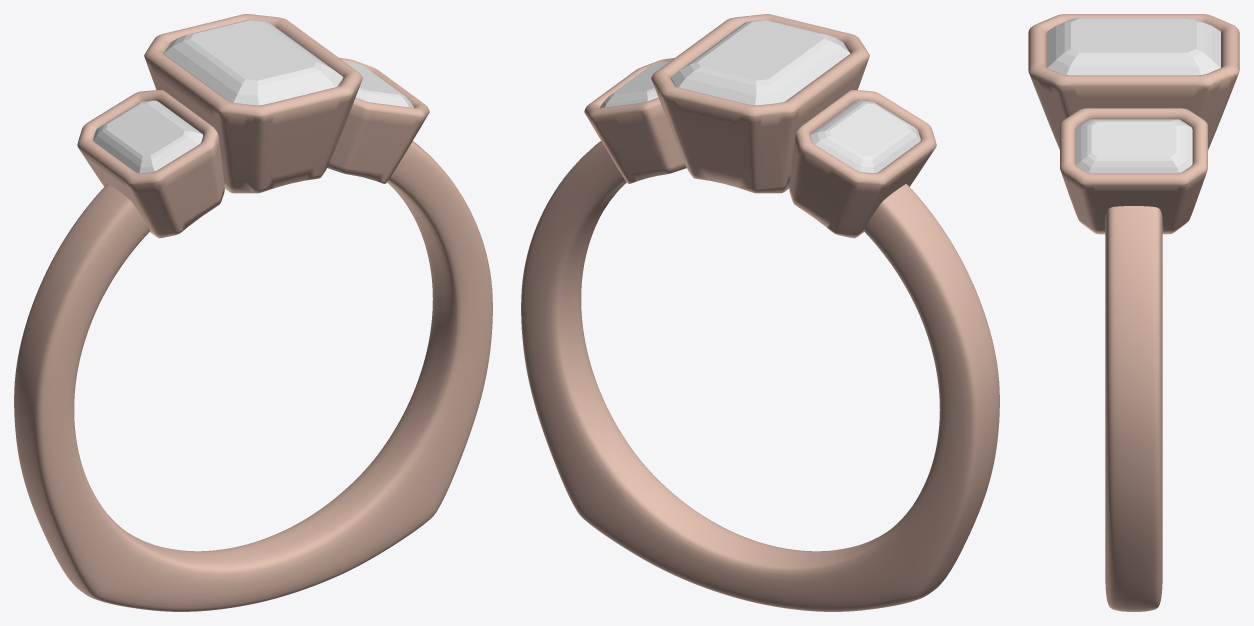
File: diamond-emerald-rosegold-bezelset-europeanshank-3stone.glb
The picture shows the model from 3 angles, left to right: view 1: azimuth 30°, elevation 25°; view 2: azimuth 150°, elevation 25°; view 3: azimuth 270°, elevation 25°; orthographic projection.
Parts seen in each view (by area): view 1: metal.001, stone.001, side.001, side.005; view 2: metal.001, stone.001, side.001, side.005; view 3: metal.001, stone.001, side.005.
Boxes of the visible parts, bbox=[...] form: metal.001: bbox=[14, 14, 492, 611]; stone.001: bbox=[163, 19, 343, 105]; side.001: bbox=[93, 100, 202, 172]; side.005: bbox=[345, 62, 413, 107]; metal.001: bbox=[521, 14, 999, 611]; stone.001: bbox=[670, 19, 850, 105]; side.001: bbox=[810, 100, 920, 172]; side.005: bbox=[600, 62, 668, 107]; metal.001: bbox=[1028, 14, 1239, 611]; stone.001: bbox=[1047, 18, 1220, 75]; side.005: bbox=[1075, 119, 1192, 173].
Size of the model in its own units: 20.11 by 22.75 by 8.11.
